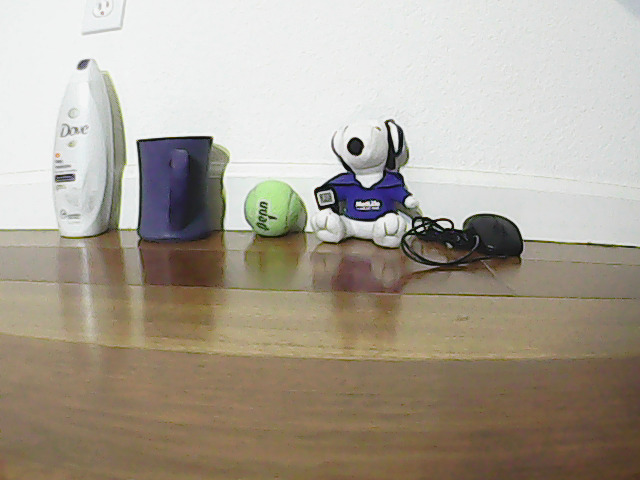ball: (248, 168, 297, 236)
mouse: (456, 200, 525, 259)
mug: (135, 122, 218, 249)
snoopy: (334, 104, 412, 258)
soap: (50, 45, 119, 250)
